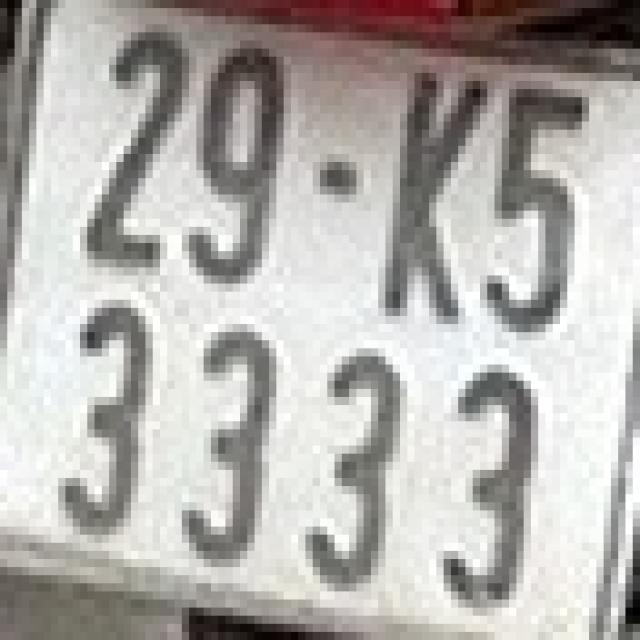2: (80, 24, 182, 268)
3: (305, 348, 400, 592), (444, 364, 538, 608), (182, 324, 276, 567), (58, 300, 153, 534)
5: (487, 81, 589, 332)
9: (189, 40, 291, 284)
K: (378, 65, 473, 324)
